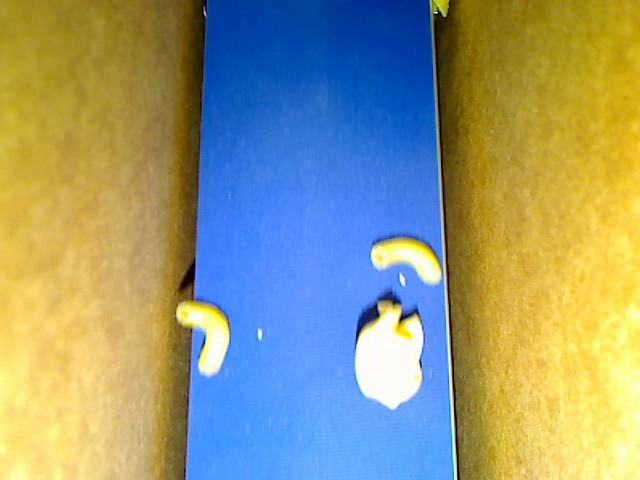elbow: (175, 300, 232, 376), (369, 235, 443, 284)
tortellini: (354, 300, 423, 409)
